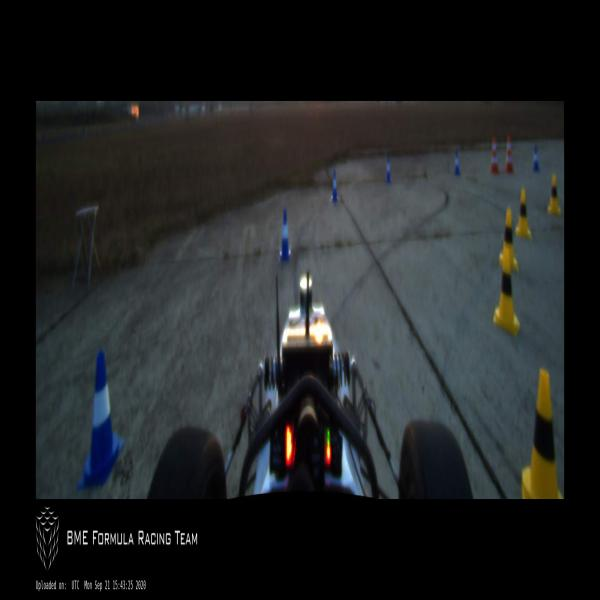blue_cone: (76, 351, 125, 492), (279, 210, 291, 260), (331, 170, 338, 201), (532, 146, 540, 172), (386, 154, 392, 182), (454, 150, 460, 176)
large_orange_cone: (490, 134, 499, 175), (505, 135, 514, 173)
yellow_cone: (522, 370, 564, 499), (493, 251, 521, 337), (499, 208, 517, 269), (515, 188, 531, 240), (548, 174, 560, 215)
